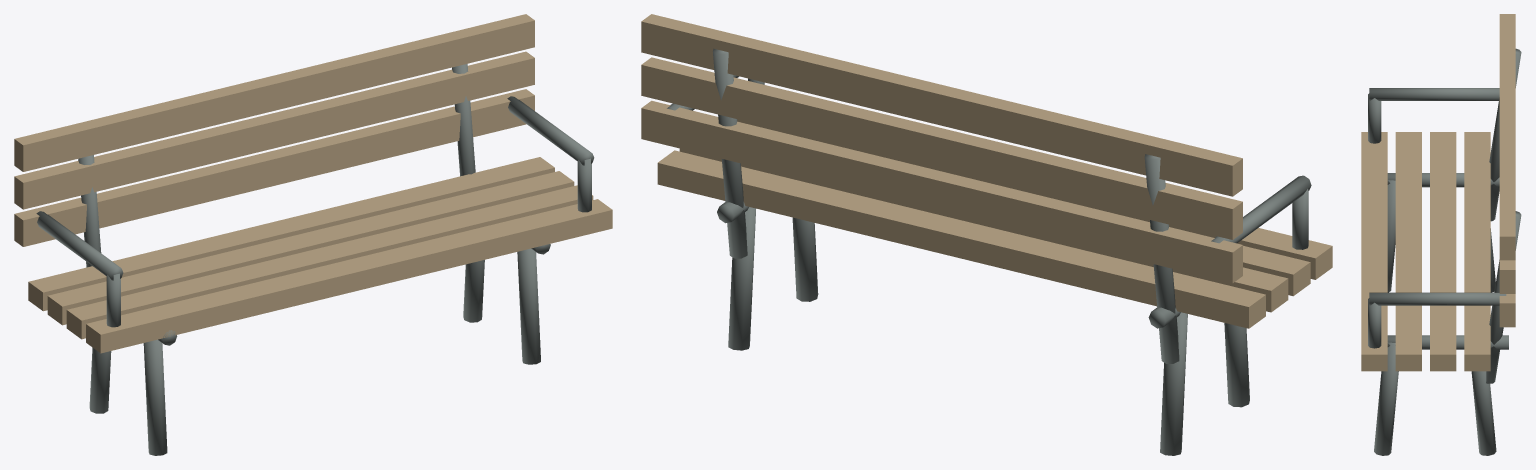
The model's file is bench.glb.
3 renders of one model, left to right at view 1: azimuth 30°, elevation 25°; view 2: azimuth 150°, elevation 25°; view 3: azimuth 270°, elevation 25°, orthographic. The views are drawn at different scales.
Parts seen in each view (by area): view 1: bench; view 2: bench; view 3: bench.
Boxes of the visible parts, left/top/right/bottom form: bench: left=14, top=14, right=612, bottom=455; bench: left=641, top=14, right=1332, bottom=455; bench: left=1361, top=14, right=1521, bottom=455.
Bounding box in the file's own units: 2 × 1.03 × 0.6077.
